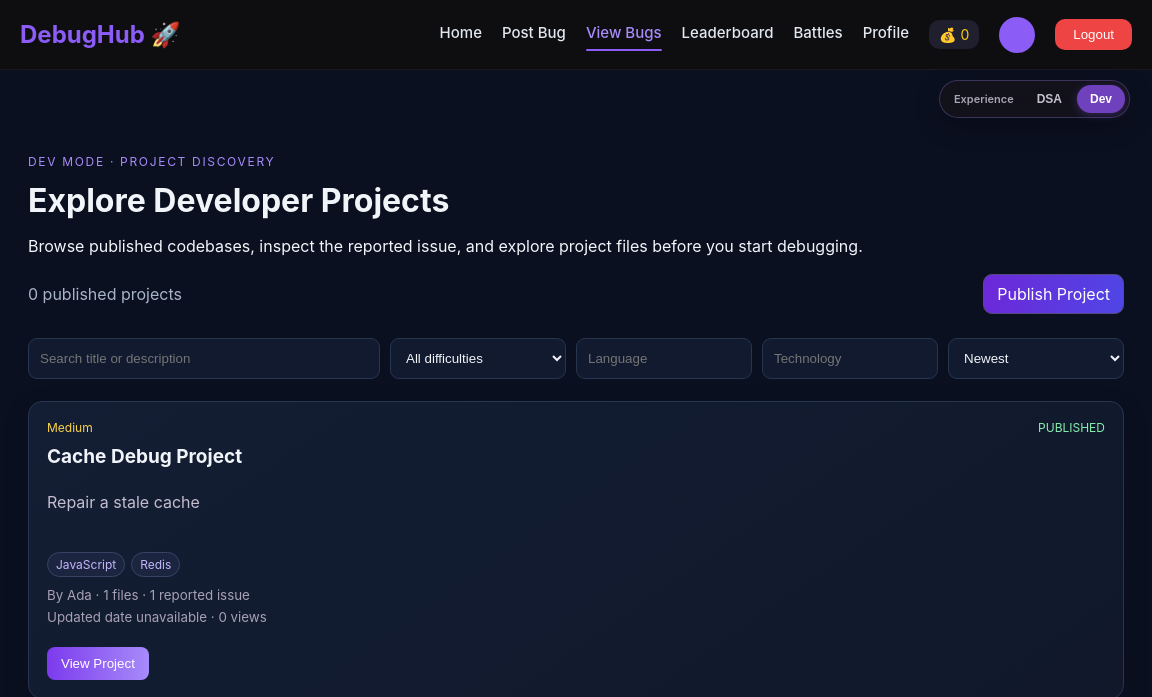
it: DebugDSA route preservation and Dev scaffold routes › Dev project discovery filters published results and opens project details
Expected: the heading "Explore Developer Projects" is shown, 28,181 -> 449,220
Expected: the heading "Cache Debug Project" is shown, 47,445 -> 242,468
Type "cache" into the field named "Search codebases".
click(204, 358); type("cache")  # box 28,338 -> 380,379
(page scrolled)
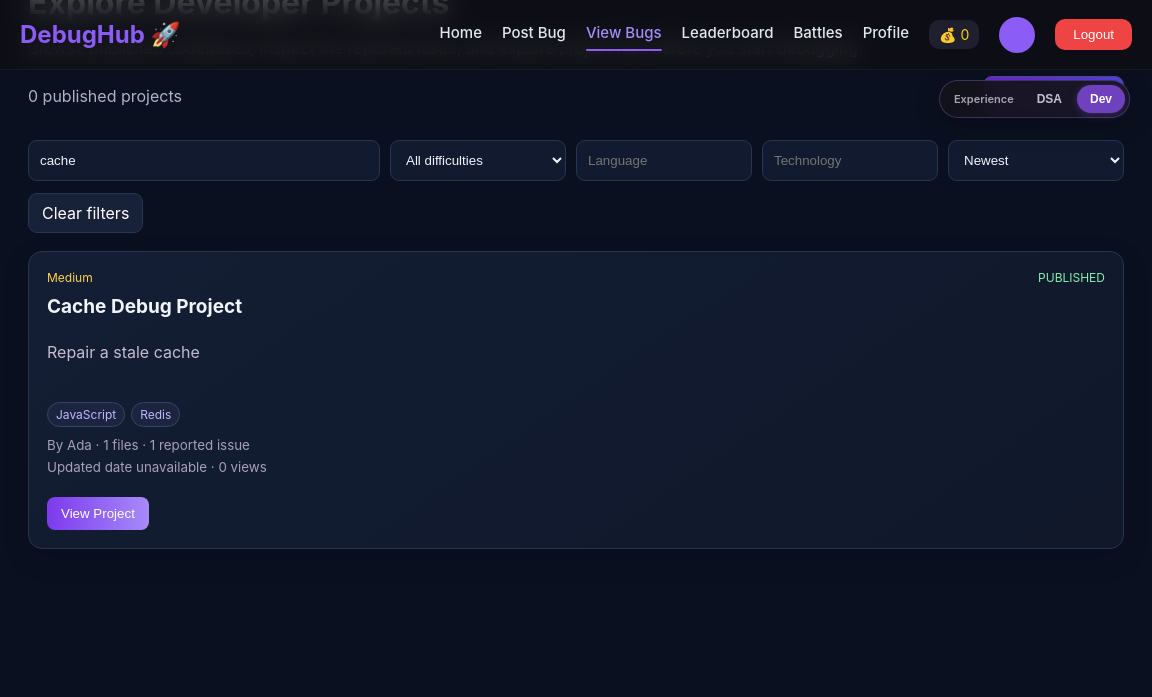
Click the button "View Project".
click(98, 514)  # box 47,497 -> 149,530
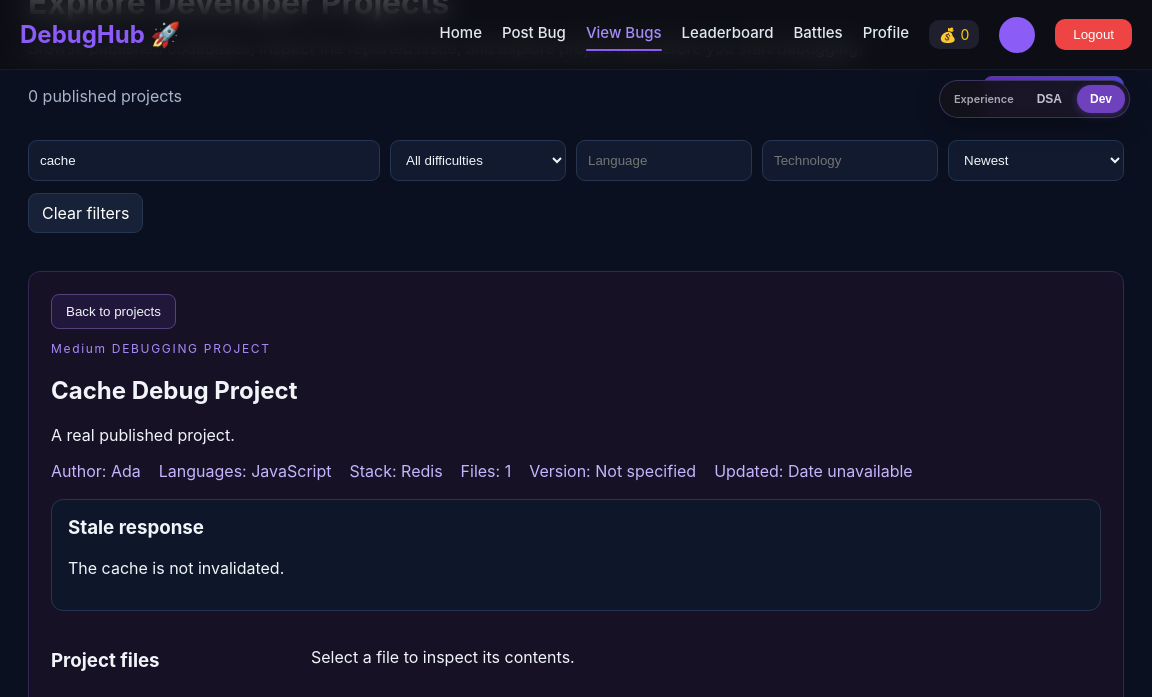
Now the heading "Stale response" is shown, box 68,516 -> 204,539
Now the heading "Project files" is shown, box 51,649 -> 160,672
